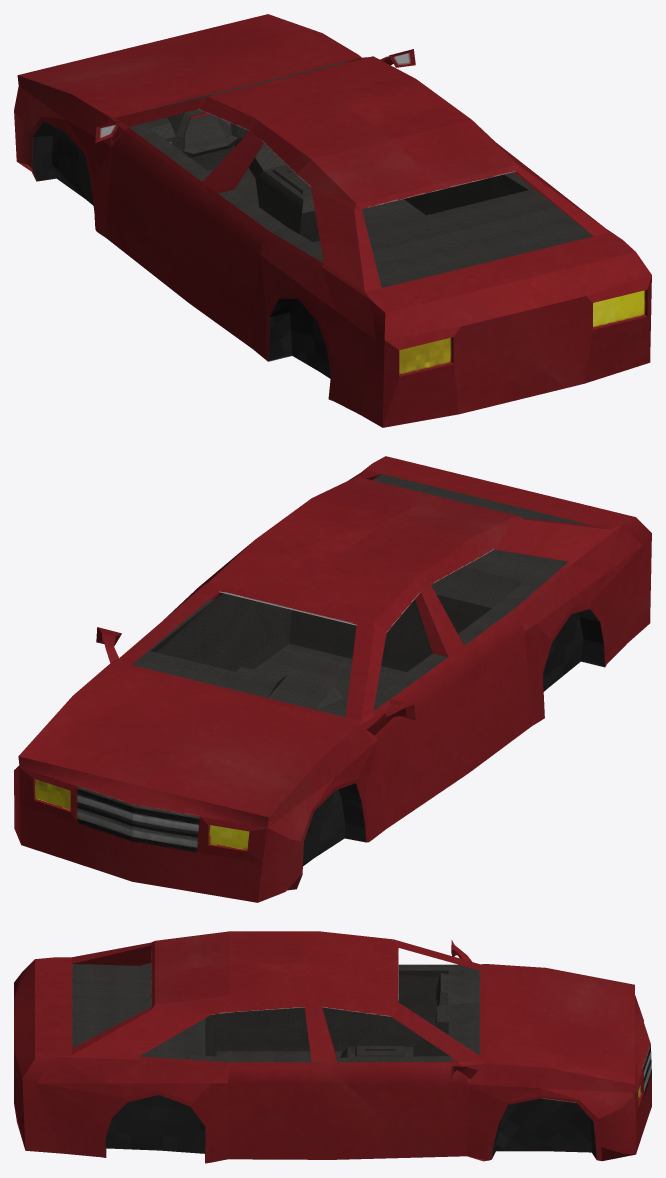
The model's file is CarFrame.glb.
3 views of the same model, one above another, from view 1: azimuth 30°, elevation 25°; view 2: azimuth 150°, elevation 25°; view 3: azimuth 270°, elevation 25° (orthographic). The views are drawn at different scales.
Parts seen in each view (by area): view 1: pCube1; view 2: pCube1; view 3: pCube1.
Boxes of the visible parts, box(x1,y1,x2,y2) form: pCube1: box(14, 14, 651, 427); pCube1: box(14, 456, 651, 902); pCube1: box(14, 931, 651, 1163).
Bounding box in the file's own units: 4.15 × 2.21 × 8.78.
Materials: 1 (1 with a texture image).
